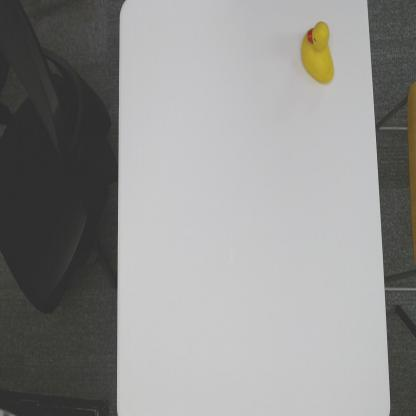Duck: (298, 21, 338, 82)
